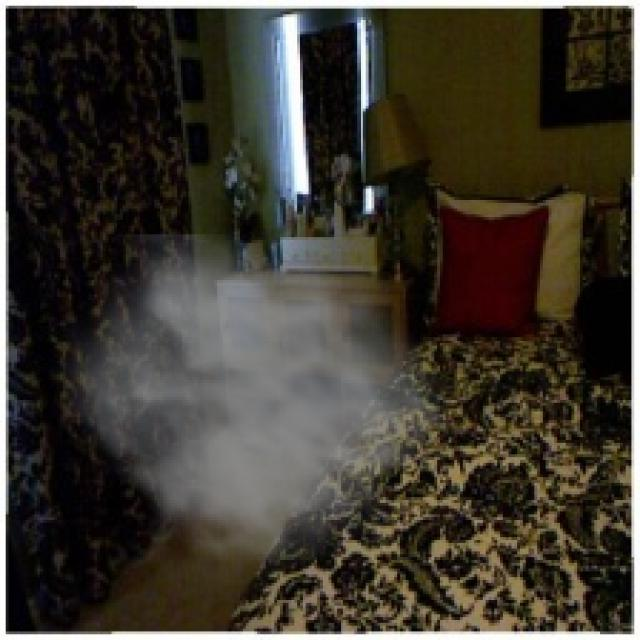smoke: (46, 234, 460, 603)
